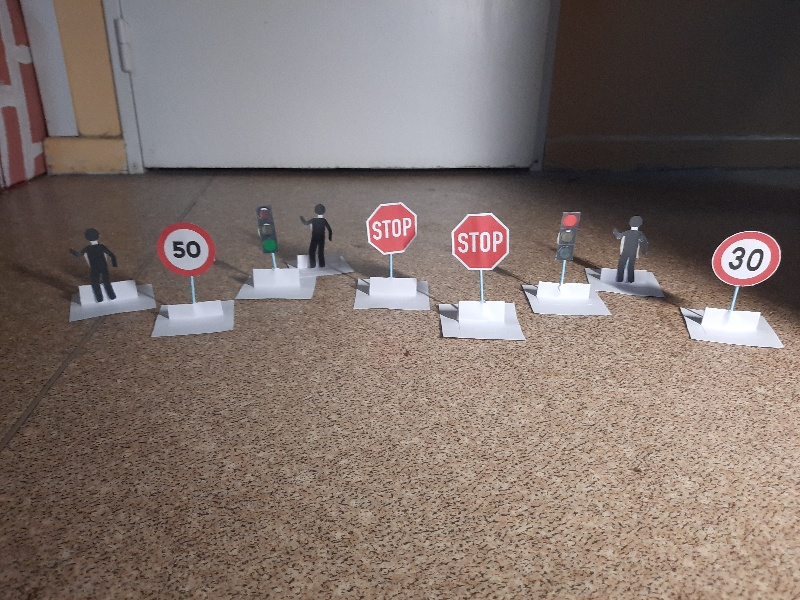Green: (256, 206, 277, 251)
Limit 30: (710, 232, 782, 286)
Limit 50: (156, 223, 214, 276)
Person: (70, 226, 120, 306), (615, 216, 647, 283), (301, 205, 332, 269)
Red: (556, 213, 576, 260)
Stop: (449, 210, 509, 271), (365, 201, 415, 256)
